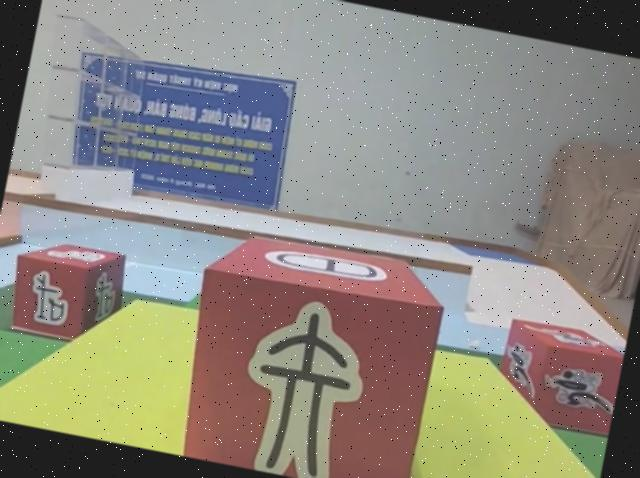R1: (484, 310, 628, 436)
R2 Fake: (165, 217, 454, 478)
R2 Real: (0, 229, 133, 350)
